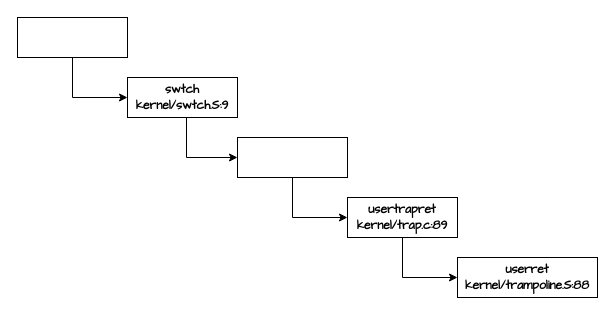
Image size: 615x315. Some labels were removed from this diagram. Each missing label, with the box of its shape:
forkret kernel/proc.c:562: (236, 136, 348, 178)
scheduler kernel/proc.c:467: (16, 16, 128, 58)
